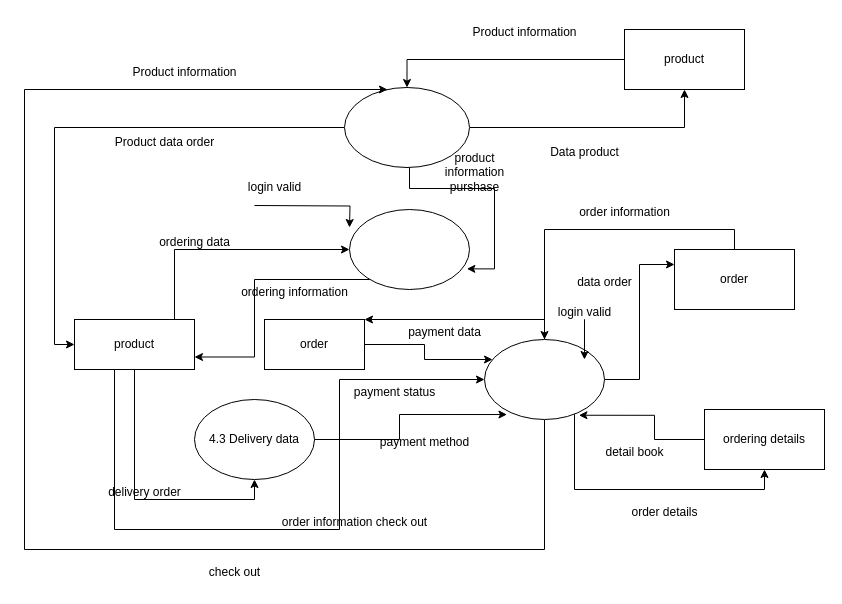
Some shapes in this 842 by 604 pixel diagram are drawn without their labels. Each missing label, with the box of its shape:
4.1 shopping cart: (344, 86, 470, 168)
4.2 change order: (348, 208, 470, 290)
4.4 Check out: (484, 338, 604, 420)
